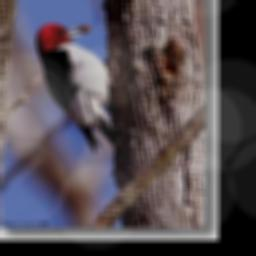Woodpecker: (34, 22, 120, 151)
